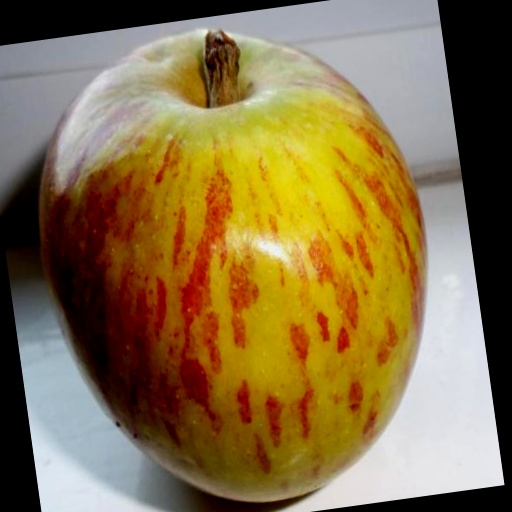fruit: (40, 31, 426, 501)
